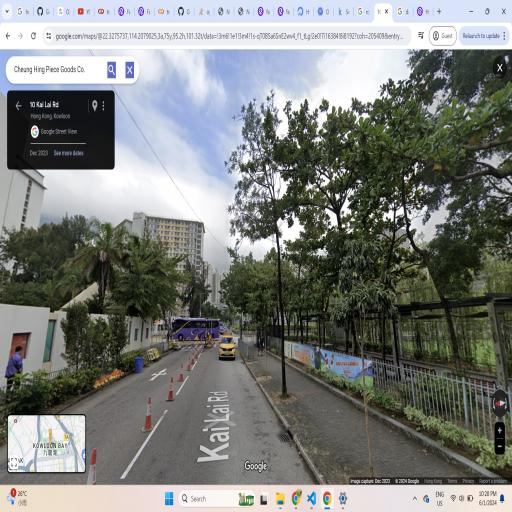Roads: (0, 329, 484, 466)
Trees: (319, 62, 512, 416), (226, 80, 319, 452)
